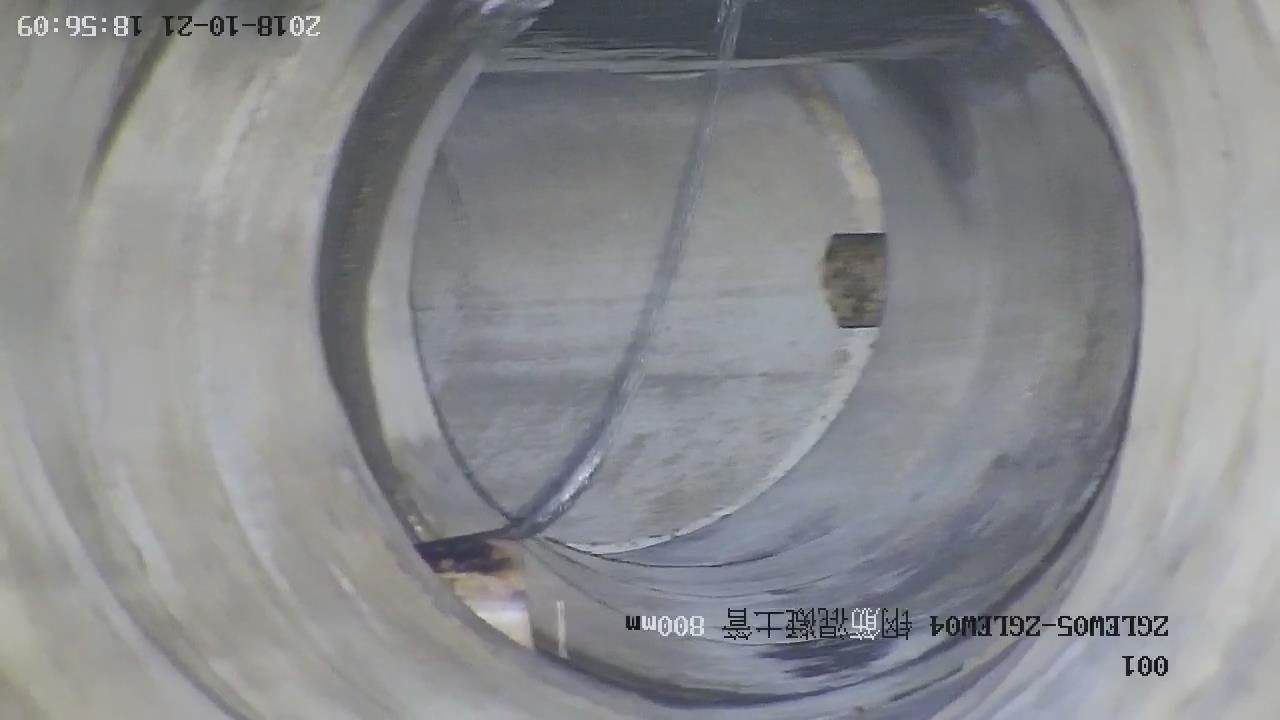CKTJ: (558, 238, 886, 555), (801, 69, 883, 236)
ZGAJ: (418, 535, 532, 646), (822, 233, 888, 329)
